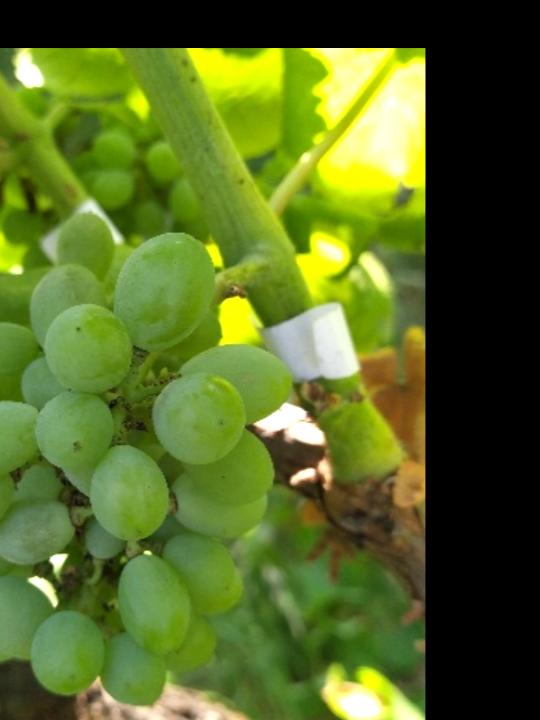grape: (0, 215, 301, 713)
